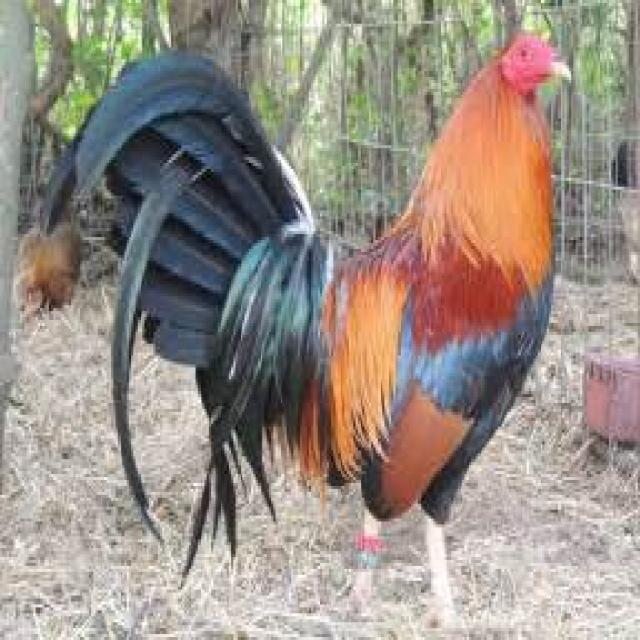hen: (42, 35, 560, 569)
